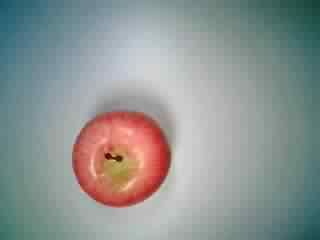apple: (65, 109, 171, 209)
